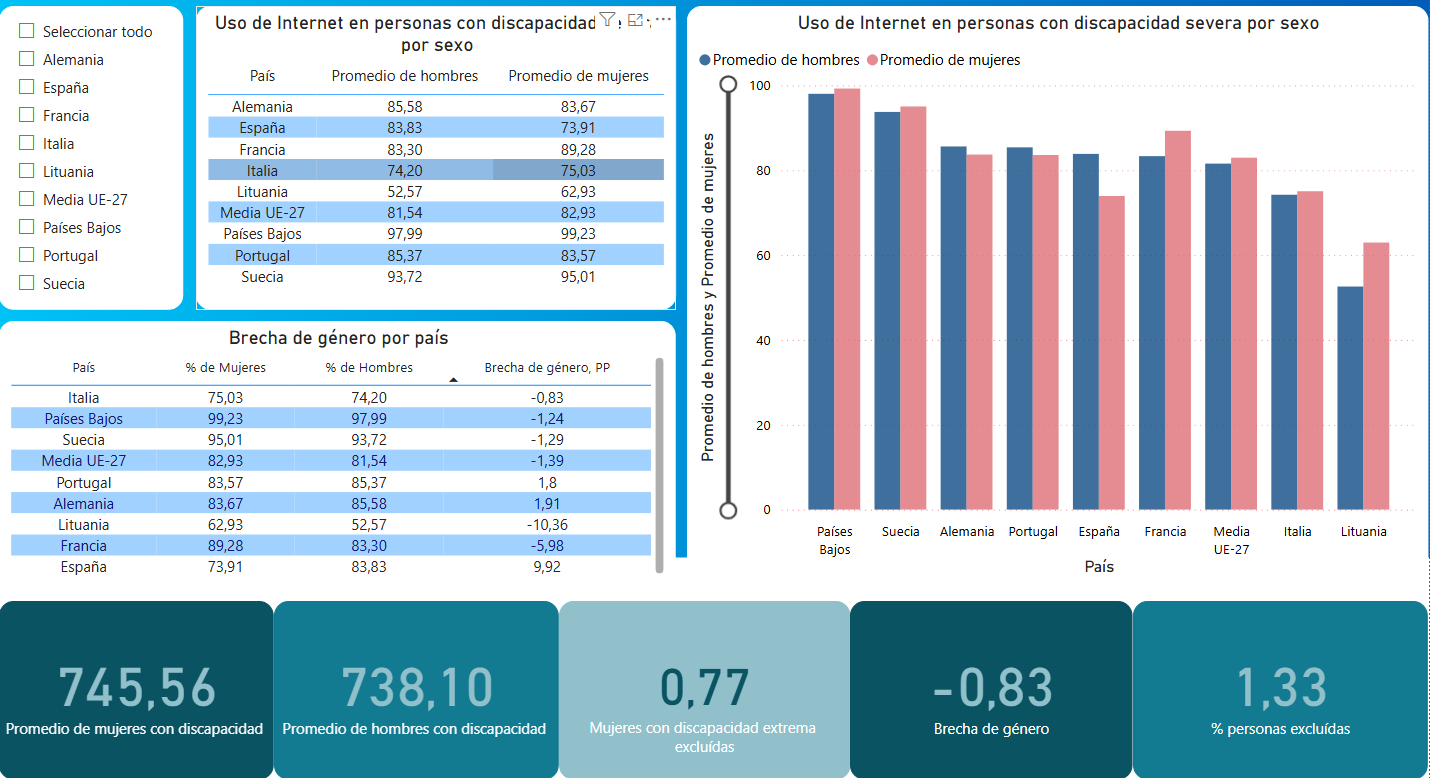

The dashboard page shown, as its layout file describes it:
{"tool":"powerbi","page":{"name":"Género y Discapacidad","canvas":[1280,720],"ordinal":1},"visuals":[{"type":"clusteredBarChart","title":"Uso de Internet en personas con discapacidad severa por sexo","fields":{"Category":["vw_pbi_genero.pais"],"Y":["CountNonNull(vw_pbi_genero.pct_hombres)","CountNonNull(vw_pbi_genero.pct_mujeres)"]},"box":[735.7,150,531.4,401.4],"z":0},{"type":"tableEx","title":"Brecha de género por país","fields":{"Values":["vw_pbi_genero.pais","vw_pbi_genero.pct_mujeres","vw_pbi_genero.pct_hombres","vw_pbi_genero.brecha_genero_pp"]},"box":[17.1,150,672.9,421.4],"z":1000}]}

Visuals, with their boxes on the page's 1280x720 design canvas (x1, y1, x2, y2). These are canvas units, not pixel positions in the 1430x778 screenshot, which may show the page scaled, cropped or inside an application window:
"Uso de Internet en personas con discapacidad severa por sexo" clusteredBarChart: x1=736, y1=150, x2=1267, y2=551
"Brecha de género por país" tableEx: x1=17, y1=150, x2=690, y2=571
